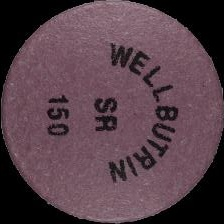0173-0135: (0, 0, 224, 224)
